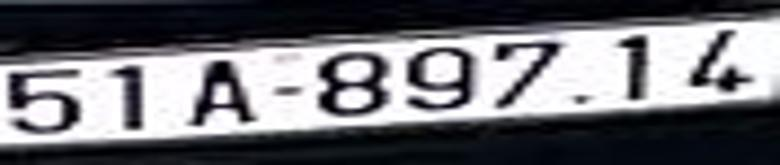-: (266, 83, 303, 101)
.: (572, 88, 594, 108)
1: (108, 64, 149, 138), (614, 34, 652, 105)
4: (682, 30, 760, 98)
5: (5, 69, 86, 138)
7: (492, 38, 569, 108)
8: (315, 47, 392, 122)
9: (403, 47, 478, 112)
A: (193, 55, 258, 129)
